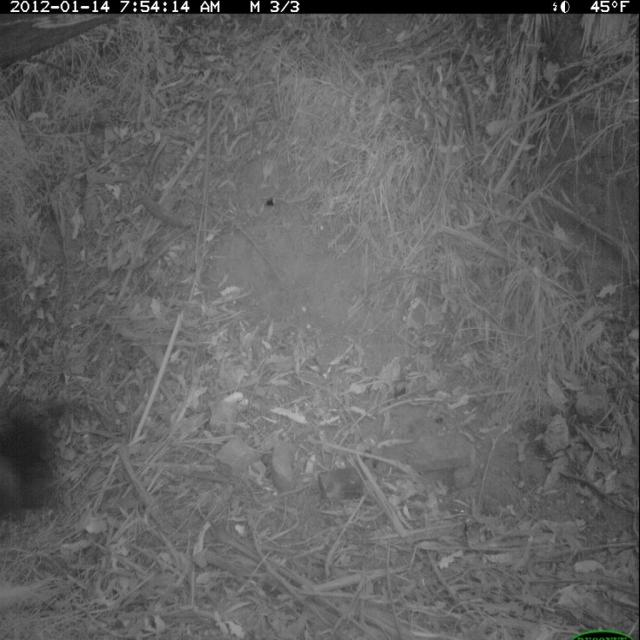dog: (3, 392, 68, 549)
